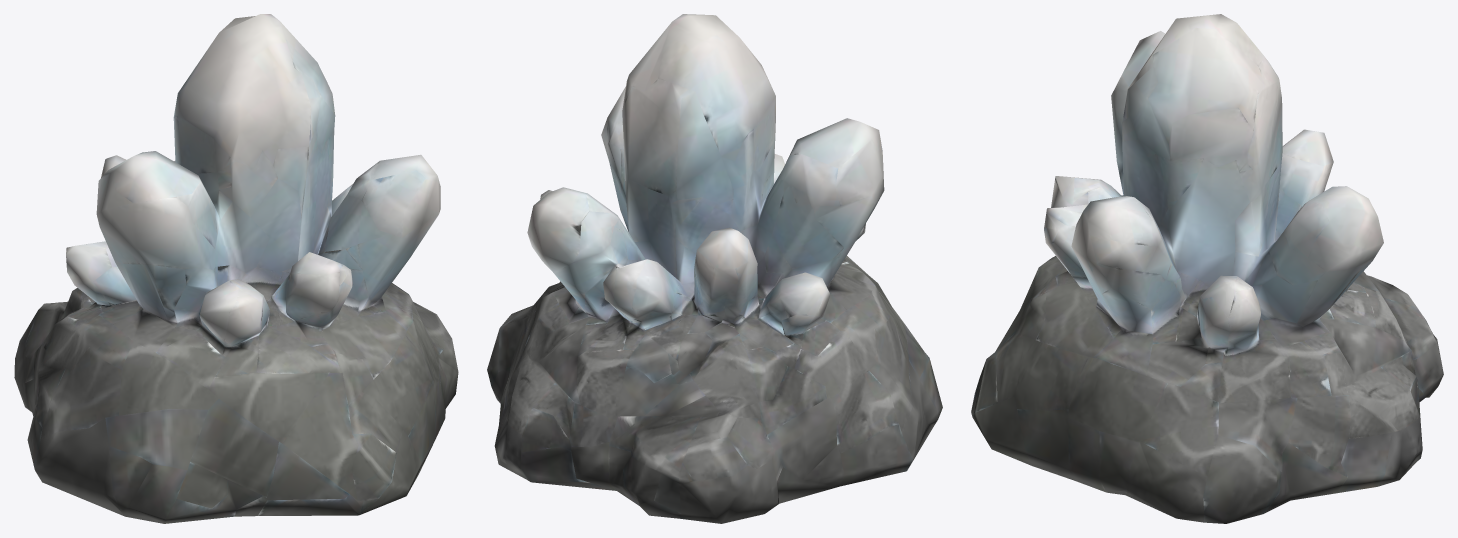
File: crystal.glb
3 views of the same model, side by side, from view 1: azimuth 30°, elevation 25°; view 2: azimuth 150°, elevation 25°; view 3: azimuth 270°, elevation 25° (orthographic). The views are drawn at different scales.
Size of the model in its own units: 1.9 by 1.79 by 1.84.
Materials: 1 (1 with a texture image).
